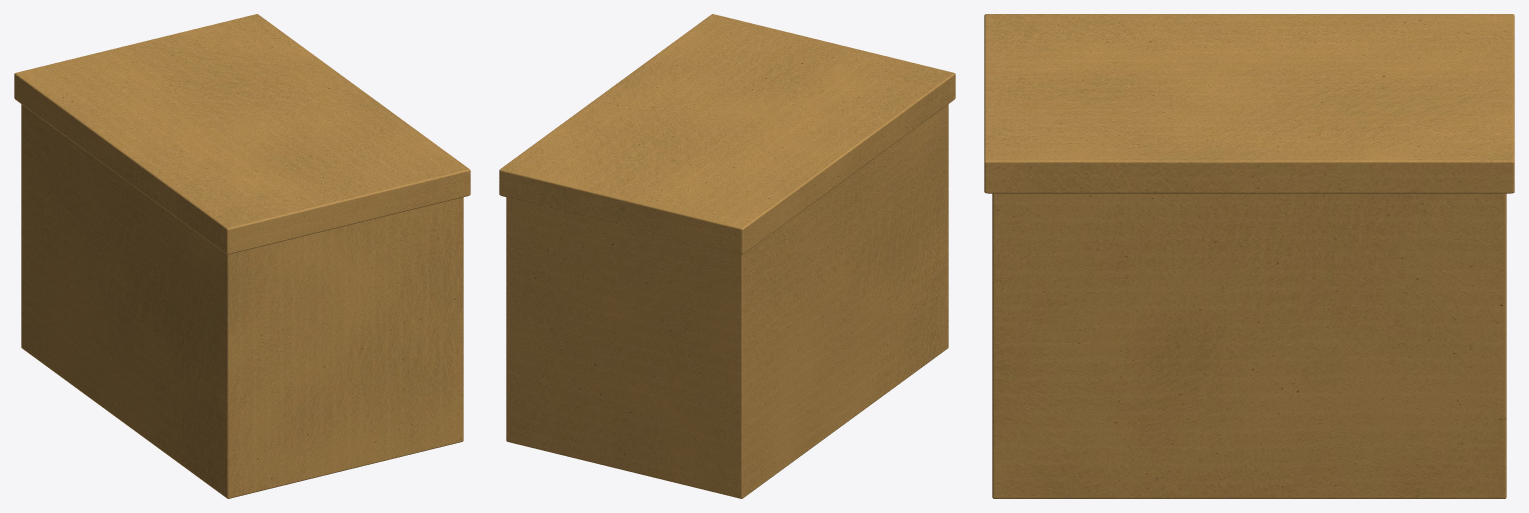
The picture shows the model from 3 angles, left to right: view 1: azimuth 30°, elevation 25°; view 2: azimuth 150°, elevation 25°; view 3: azimuth 270°, elevation 25°; orthographic projection. The views are drawn at different scales.
Parts seen in each view (by area): view 1: Storagebox_Box_blue_0; view 2: Storagebox_Box_blue_0; view 3: Storagebox_Box_blue_0.
Boxes of the visible parts, x1,y1,x2,y2 form: Storagebox_Box_blue_0: [14, 14, 470, 498]; Storagebox_Box_blue_0: [499, 14, 955, 498]; Storagebox_Box_blue_0: [984, 14, 1514, 498].
Bounding box in the file's own units: 25.73 × 27.61 × 38.96.
1 material, 1 textured.
